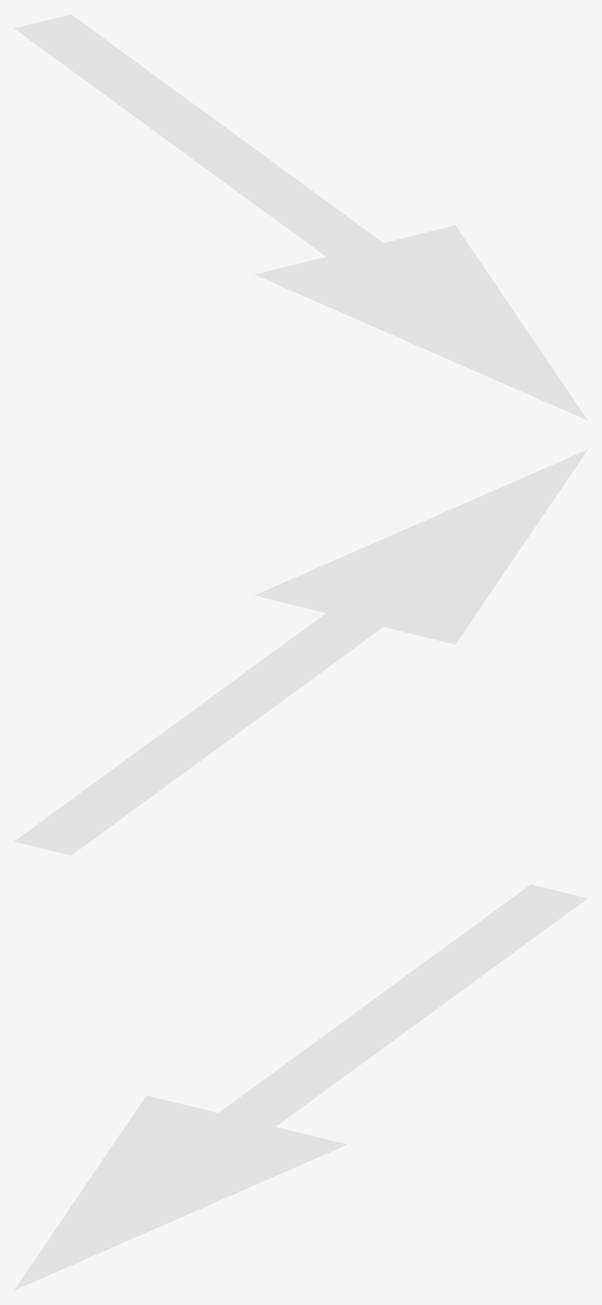
Rendered from ETC0510017.fbx.
3 renders of one model, top to bottom at view 1: azimuth 30°, elevation 25°; view 2: azimuth 150°, elevation 25°; view 3: azimuth 330°, elevation 25°, orthographic.
Parts seen in each view (by area): view 1: smETC0510017; view 2: smETC0510017; view 3: smETC0510017.
Boxes of the visible parts, x1,y1,x2,y2 form: smETC0510017: [14, 14, 587, 420]; smETC0510017: [14, 449, 587, 855]; smETC0510017: [14, 884, 587, 1290].
Size of the model in its own units: 146 by 0 by 685.
Materials: 1 (1 with a texture image).
